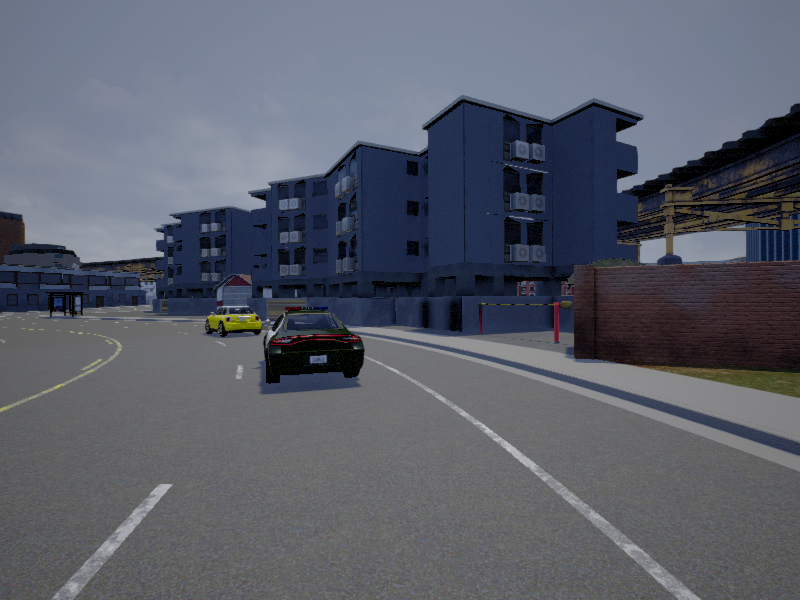Benign: (262, 308, 365, 385), (205, 306, 264, 337)
